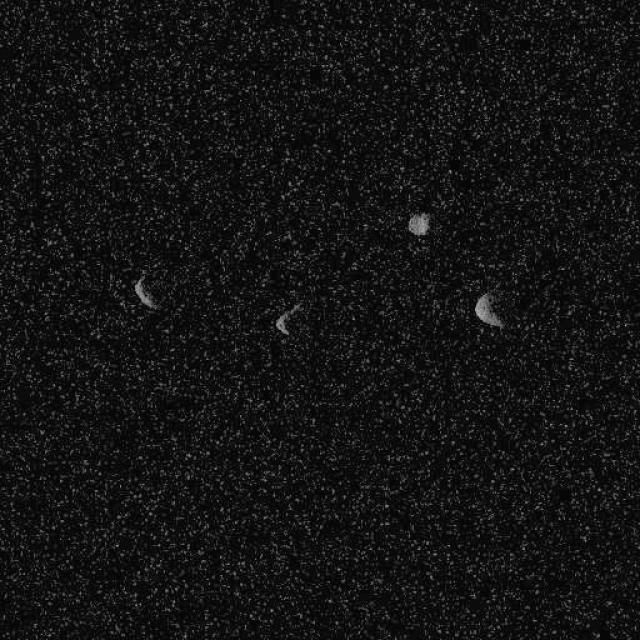D2: (473, 291, 505, 329), (132, 274, 160, 311), (274, 300, 302, 336), (406, 212, 430, 236)
